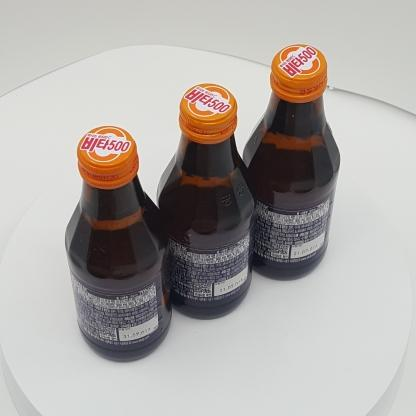-----500---180ML: (65, 125, 171, 363), (241, 43, 341, 282), (157, 82, 255, 321)
